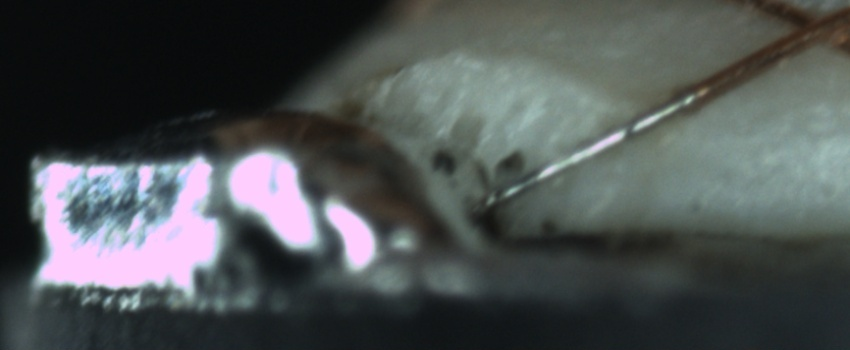CL: (764, 2, 845, 60)
TS: (475, 91, 695, 217)
TTCW: (477, 48, 770, 215)
